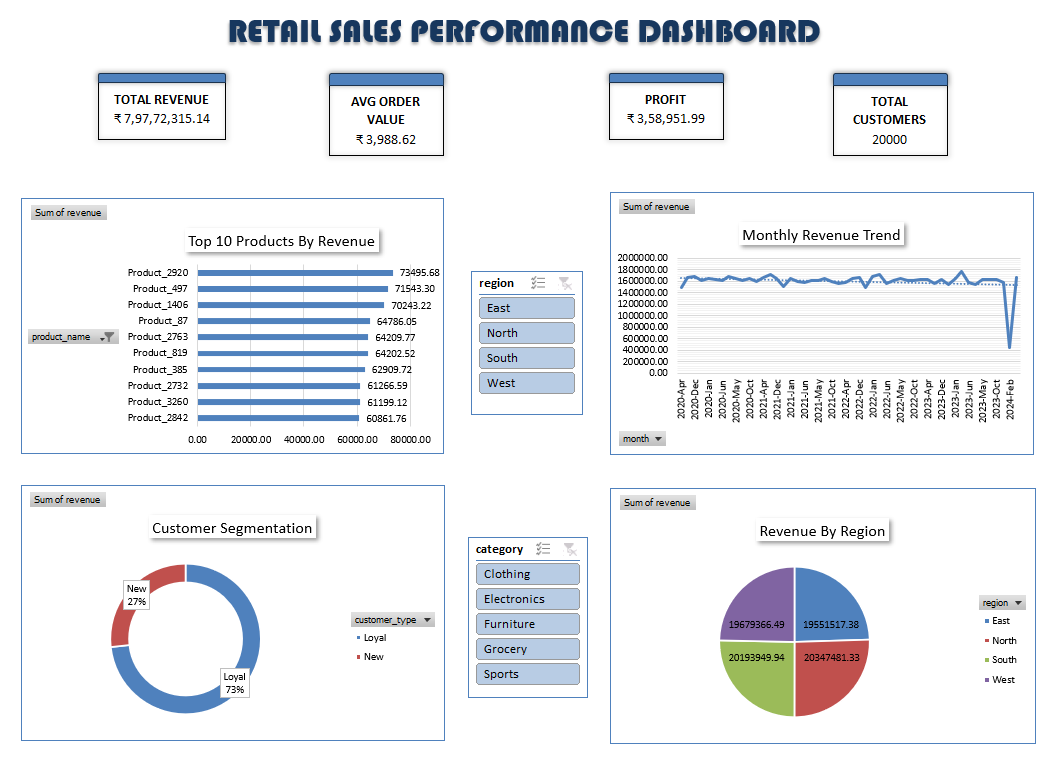

What the dashboard file says about the page in this screenshot:
{"tool":"powerbi","page":{"name":"Page 1","canvas":[1280,720],"ordinal":0},"visuals":[{"type":"card","fields":{"Values":["sales_large.Total Revenue"]},"box":[17.8,96.1,141.3,78.2],"z":0},{"type":"card","fields":{"Values":["sales_large.Total Profit"]},"box":[179.8,96.1,141.3,76.8],"z":1000},{"type":"card","fields":{"Values":["sales_large.Total Orders"]},"box":[345.8,96.1,118,75.5],"z":2000},{"type":"card","fields":{"Values":["sales_large.Average Discount"]},"box":[487.1,96.1,152.3,75.5],"z":3000},{"type":"lineChart","title":"Monthly Revenue Trend","fields":{"Y":["sales_large.Total Revenue"],"Category":["sales_large.sale_date.Variation.Date Hierarchy.Month","sales_large.sale_date.Variation.Date Hierarchy.Day"]},"box":[17.8,403.4,621.6,303.3],"z":4000},{"type":"slicer","title":"Top 10 Products by Revenue","fields":{"Values":["sales_large.sale_date"]},"box":[1038.8,12.3,222.3,67.2],"z":5000},{"type":"donutChart","title":"Customer Segmentation","fields":{"Y":["sales_large.Total Revenue"],"Category":["customers_large.customer_type"]},"box":[127.6,194.9,403.4,186.6],"z":6000},{"type":"columnChart","title":"Total Profit by Category","fields":{"Y":["sales_large.Total Profit"],"Category":["products_large.category"]},"box":[666.9,96.1,594.2,285.4],"z":7000},{"type":"textbox","box":[17.8,12.3,621.6,54.9],"z":8000},{"type":"slicer","fields":{"Values":["customers_large.region"]},"box":[666.9,12.3,115.3,65.9],"z":9000},{"type":"slicer","fields":{"Values":["products_large.category"]},"box":[815.1,12.3,190.7,67.2],"z":10000},{"type":"barChart","fields":{"Category":["products_large.product_name"],"Y":["sales_large.Total Revenue"]},"box":[666.9,403.4,594.2,303.3],"z":11000}]}

Visuals, with their boxes on the page's 1280x720 design canvas (x1, y1, x2, y2). These are canvas units, not pixel positions in the 1057x762 screenshot, which may show the page scaled, cropped or inside an application window:
card - sales_large.Total Revenue: <box>18,96,159,174</box>
card - sales_large.Total Profit: <box>180,96,321,173</box>
card - sales_large.Total Orders: <box>346,96,464,172</box>
card - sales_large.Average Discount: <box>487,96,639,172</box>
"Monthly Revenue Trend" lineChart: <box>18,403,639,707</box>
"Top 10 Products by Revenue" slicer: <box>1039,12,1261,80</box>
"Customer Segmentation" donutChart: <box>128,195,531,382</box>
"Total Profit by Category" columnChart: <box>667,96,1261,382</box>
textbox: <box>18,12,639,67</box>
slicer - customers_large.region: <box>667,12,782,78</box>
slicer - products_large.category: <box>815,12,1006,80</box>
barChart - products_large.product_name x sales_large.Total Revenue: <box>667,403,1261,707</box>
